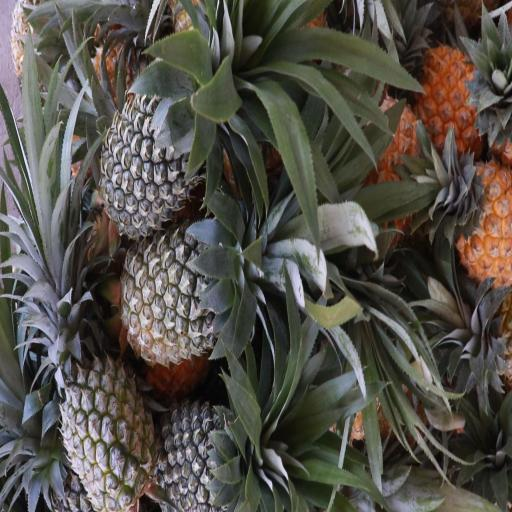------------------------------: (127, 223, 251, 354), (59, 360, 152, 512)
Pineapple - v8 v1: (422, 45, 504, 156), (448, 151, 512, 284)
